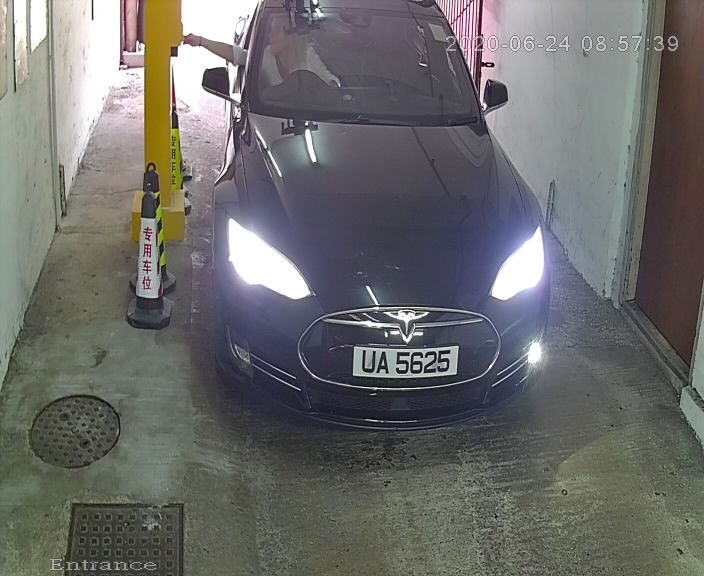privatecar: (162, 1, 570, 443)
